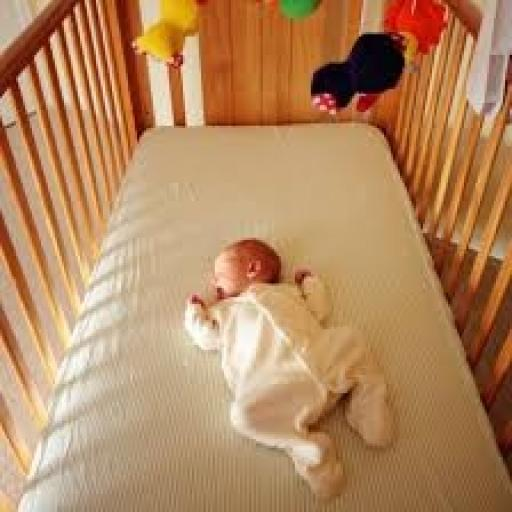baby: (183, 240, 393, 498)
crib: (0, 0, 512, 512)
